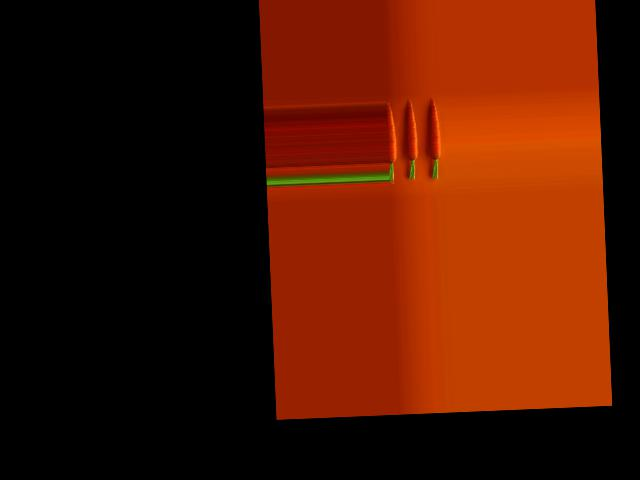carrot: (387, 112, 398, 185)
